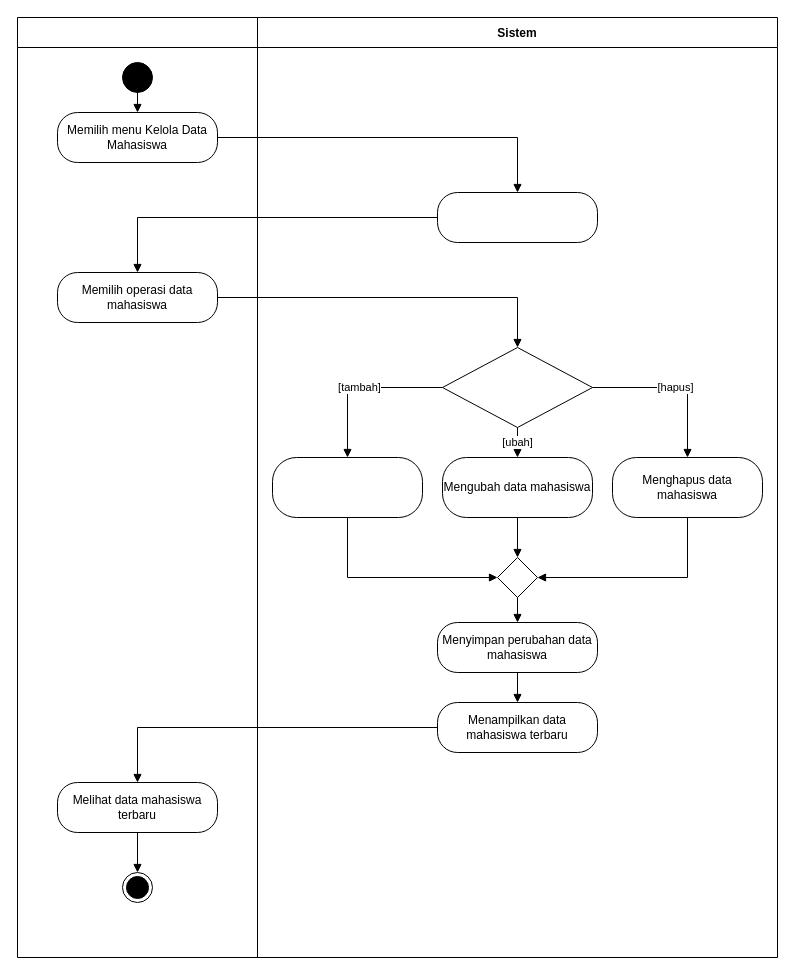
Some shapes in this 795 by 975 pixel diagram are drawn without their labels. The shapes that lost their labels are listed below. From the top down, each one's box as (x1, y1, x2, y2) in pixels, then its label:
(436, 192, 598, 242): Menampilkan daftar data mahasiswa
(442, 346, 592, 428): Operasi yang dipilih?
(16, 16, 258, 958): Admin Akademik
(272, 456, 422, 518): Menambah data mahasiswa baru
